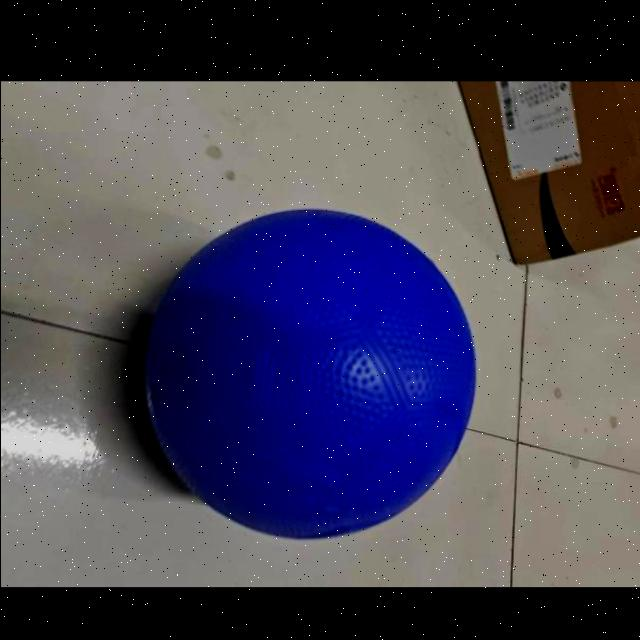B: (127, 202, 481, 546)
